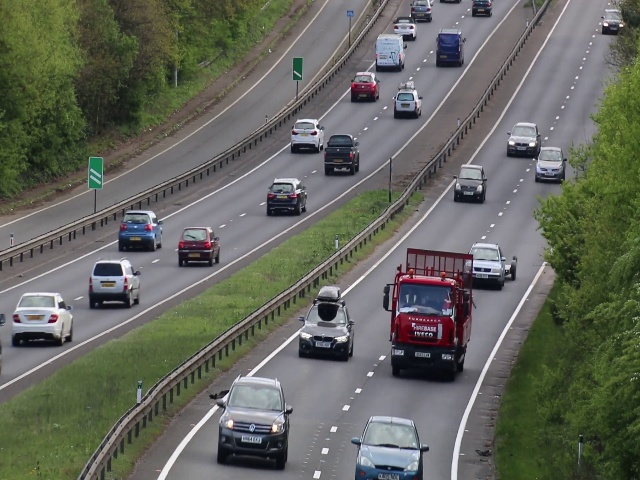car: (389, 253, 465, 381), (218, 379, 289, 462), (352, 413, 427, 480), (298, 296, 357, 361), (12, 293, 74, 349), (88, 260, 141, 308), (463, 237, 508, 289), (118, 208, 163, 253), (264, 173, 308, 217), (449, 159, 488, 205), (178, 226, 221, 267), (323, 134, 358, 178), (430, 26, 464, 71), (532, 145, 569, 186), (505, 118, 542, 156), (373, 31, 406, 73), (289, 117, 323, 154), (349, 71, 381, 105), (390, 86, 424, 117), (394, 15, 417, 40), (601, 6, 618, 33)
